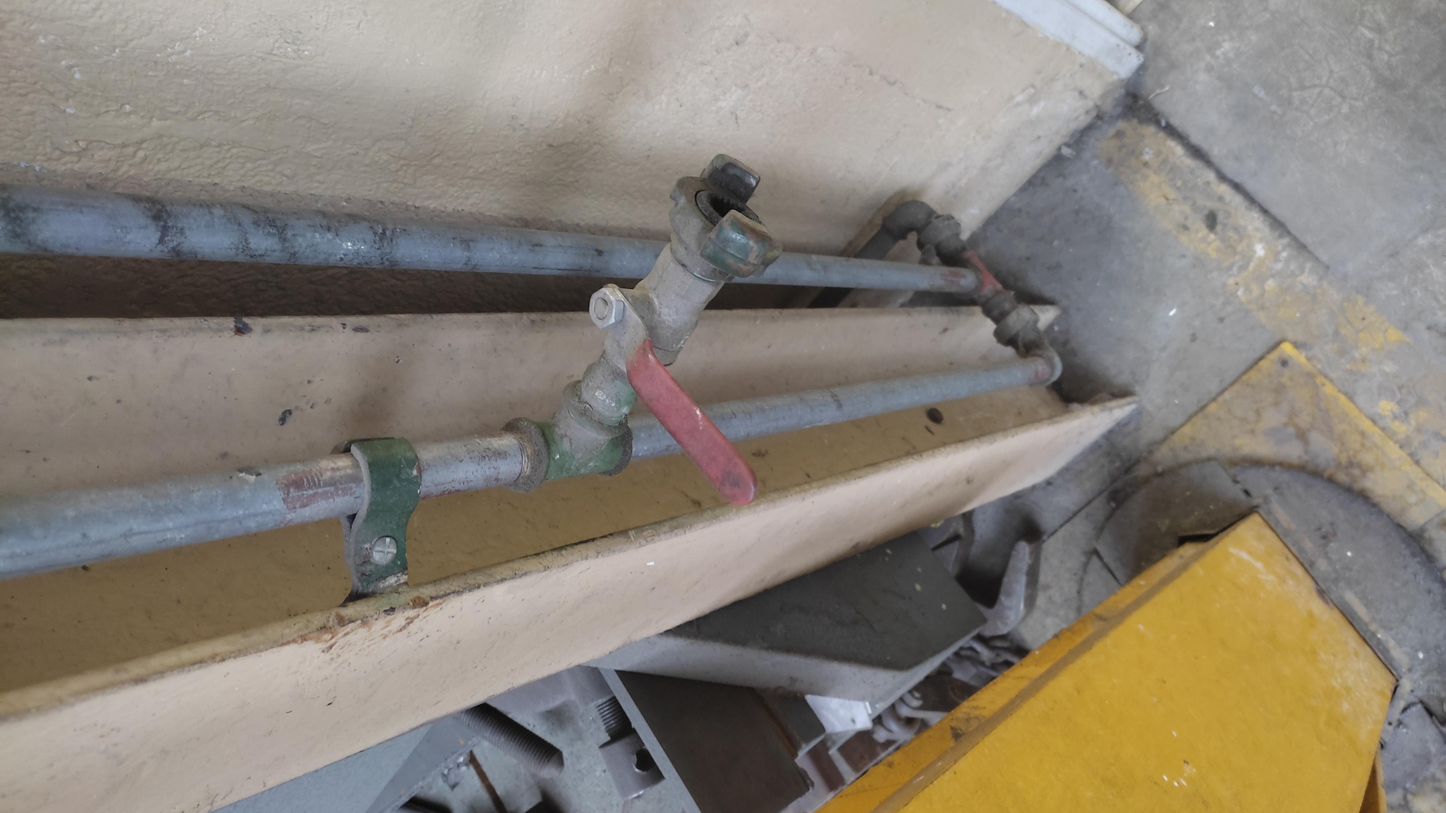closed valve: (583, 240, 763, 510)
